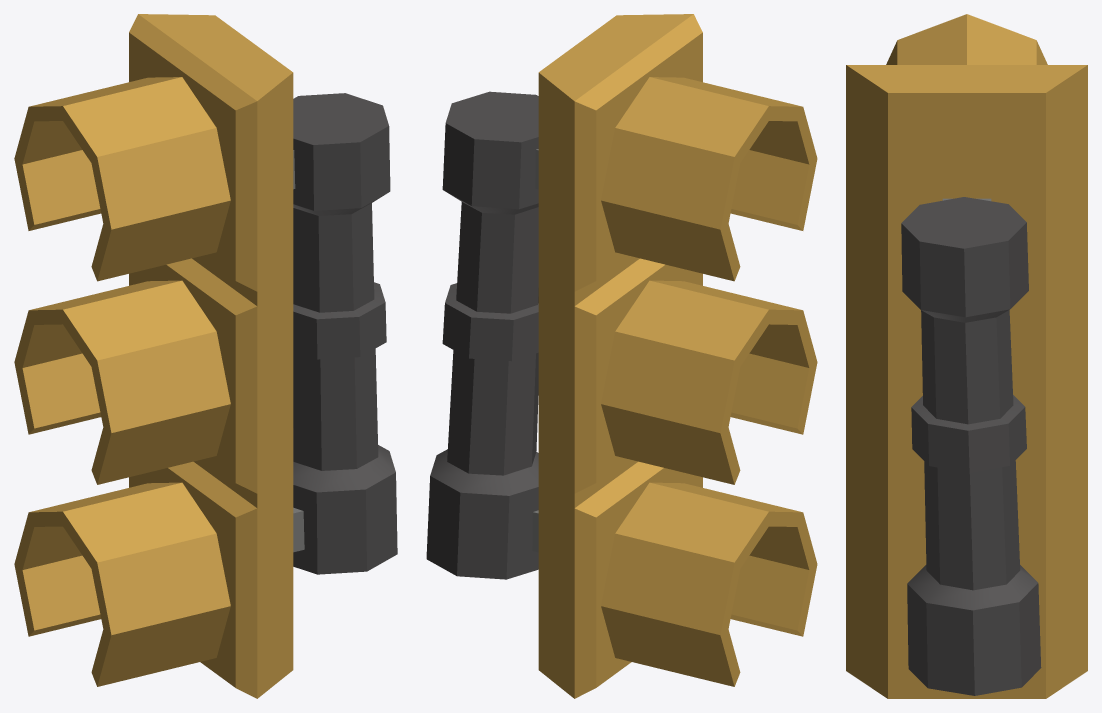
The model's file is SM_Prop_LightPole_Lights_01.fbx.
The picture shows the model from 3 angles, left to right: view 1: azimuth 30°, elevation 25°; view 2: azimuth 150°, elevation 25°; view 3: azimuth 270°, elevation 25°; orthographic projection.
Parts seen in each view (by area): view 1: SM_Prop_LightPole_Lights_01; view 2: SM_Prop_LightPole_Lights_01; view 3: SM_Prop_LightPole_Lights_01.
Part boxes in pixels (x1=…): SM_Prop_LightPole_Lights_01: x1=14, y1=14, x2=397, y2=698; SM_Prop_LightPole_Lights_01: x1=426, y1=14, x2=817, y2=698; SM_Prop_LightPole_Lights_01: x1=846, y1=14, x2=1087, y2=698.
Size of the model in its own units: 52.61 by 90.49 by 32.72.
